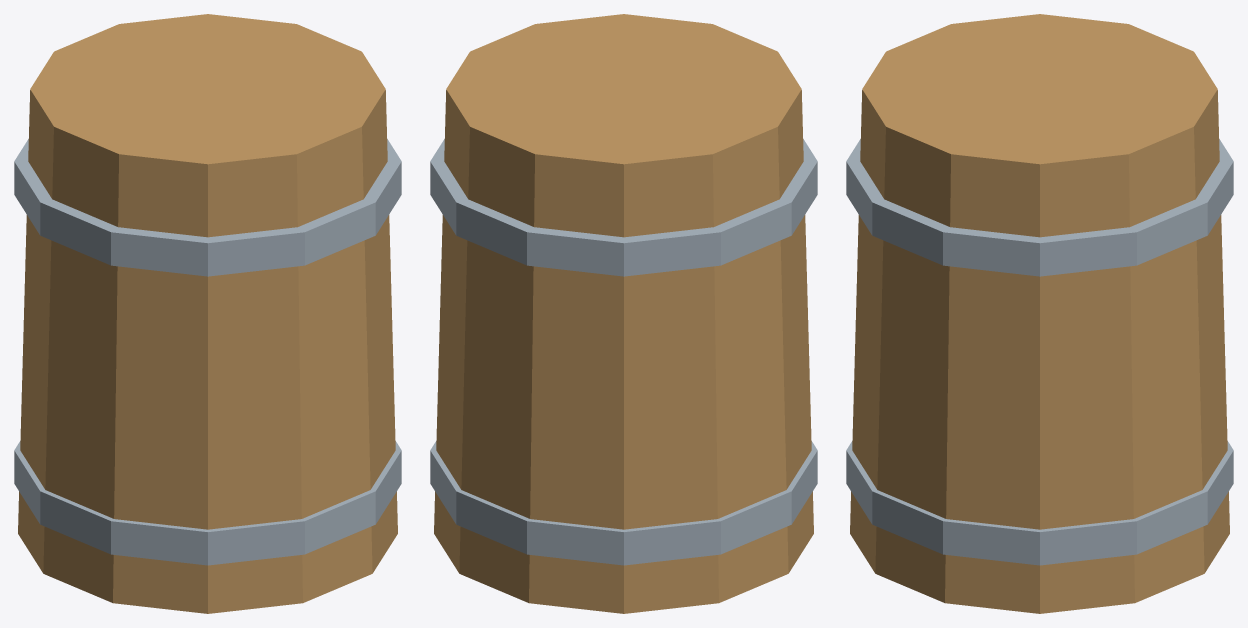
File: prop_barrel_wood.glb
3 renders of one model, left to right at view 1: azimuth 30°, elevation 25°; view 2: azimuth 150°, elevation 25°; view 3: azimuth 270°, elevation 25°, orthographic.
Parts seen in each view (by area): view 1: prop_barrel_wood; view 2: prop_barrel_wood; view 3: prop_barrel_wood.
Part boxes in pixels (left/top/right/bottom): prop_barrel_wood: left=14, top=14, right=401, bottom=613; prop_barrel_wood: left=430, top=14, right=817, bottom=613; prop_barrel_wood: left=846, top=14, right=1233, bottom=613.
Size of the model in its own units: 0.632 by 0.8 by 0.632.
